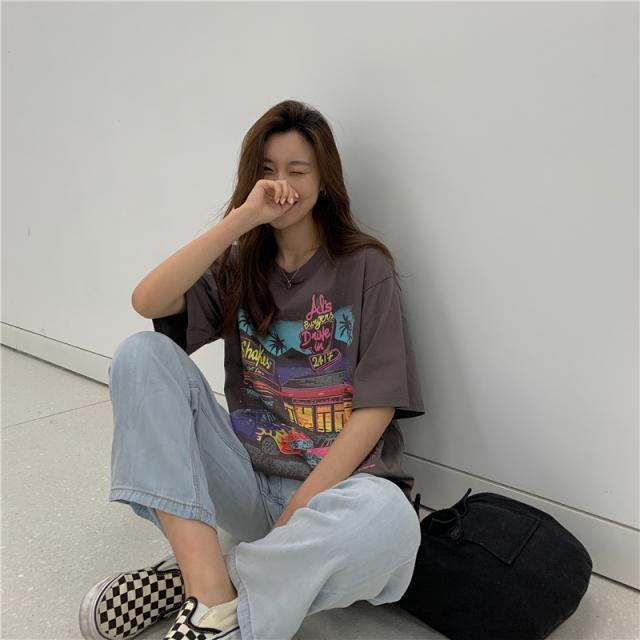Shirt: (152, 224, 426, 494)
